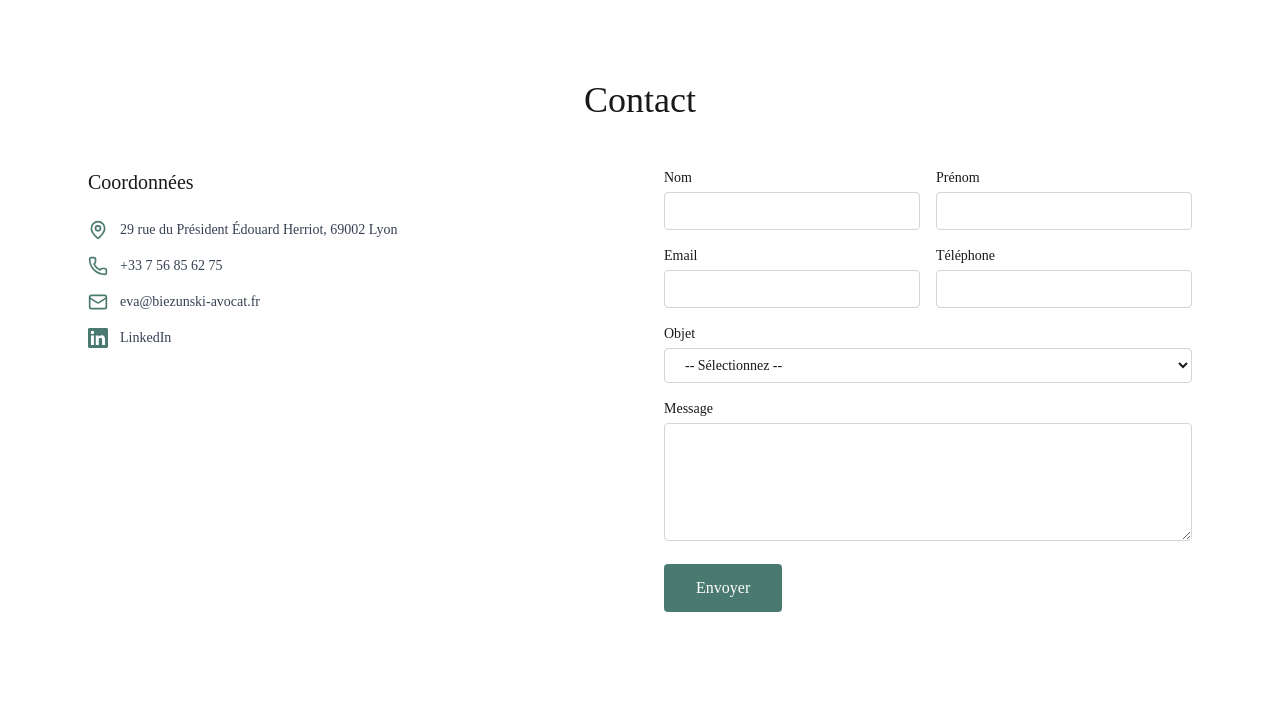
Test: Contact › shows the custom subject field only when 'Autre' is selected
The width and height of the screenshot is (1280, 720).
Expected: the field labelled "Précisez l'objet" is not shown
Select "Autre" in the dropdown labelled "Objet" at (928, 366), box [664,348,1192,383]
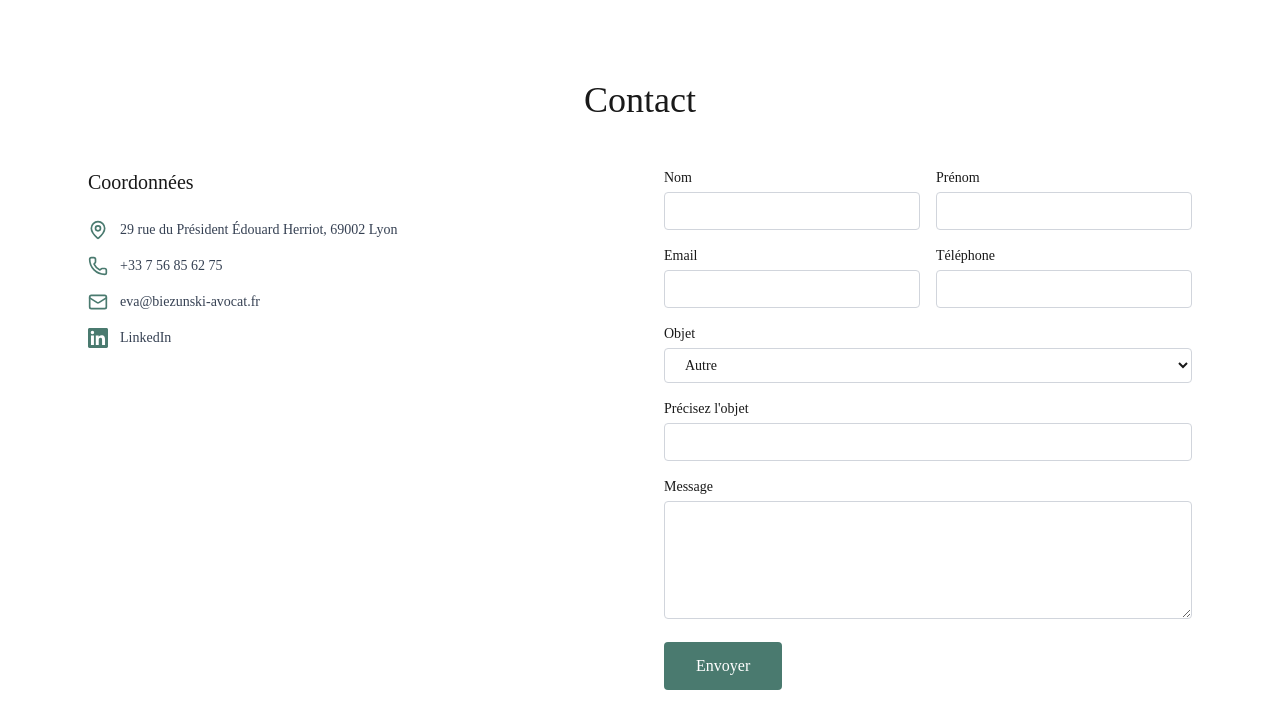
Expected: the field labelled "Précisez l'objet" is shown, [664,423,1192,461]
Select "Contentieux" in the dropdown labelled "Objet" at (928, 366), box [664,348,1192,383]
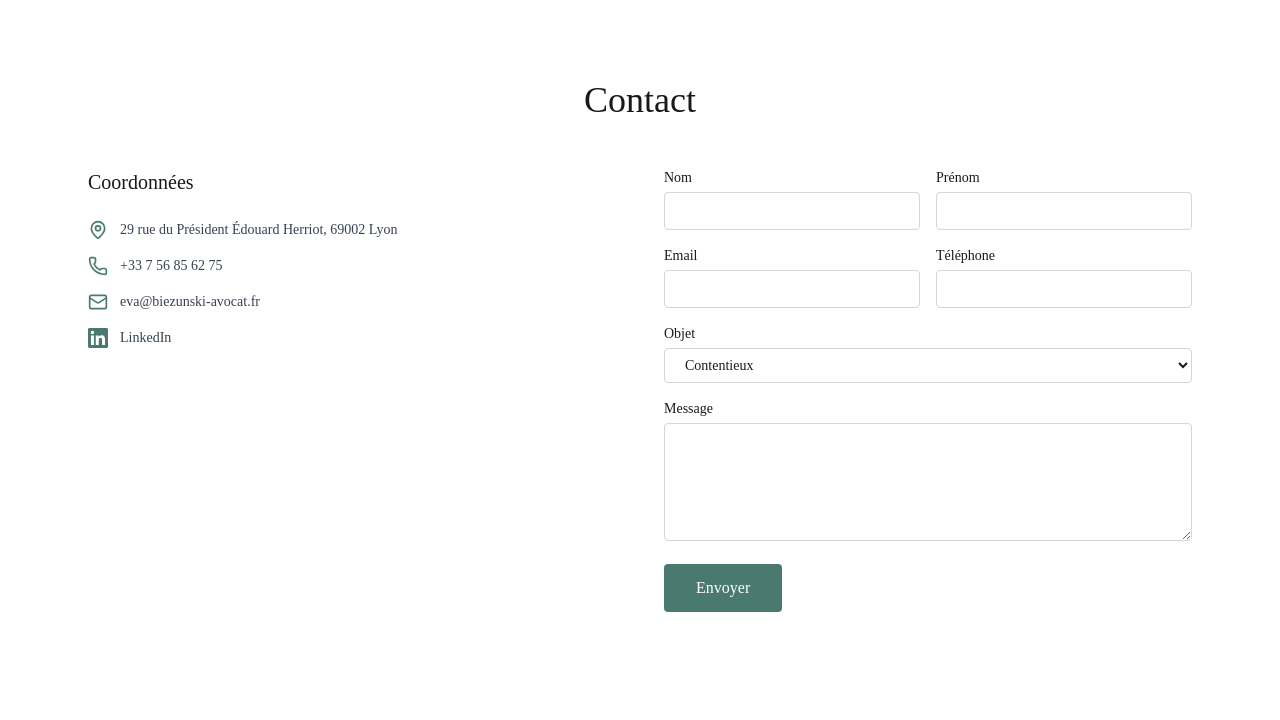
Expected: the label labelled "Précisez l'objet" is gone
